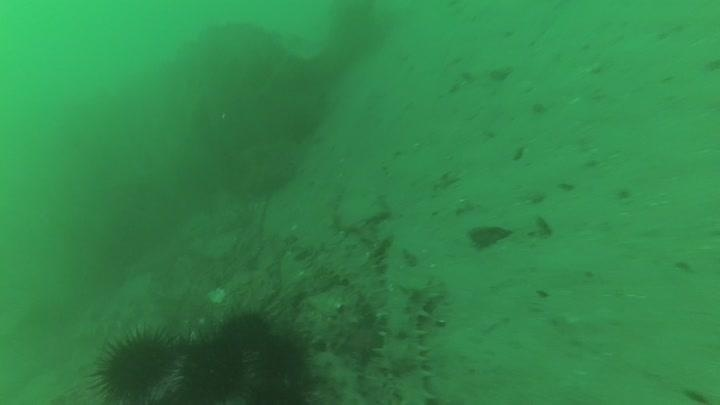echinus: (88, 324, 182, 403), (241, 327, 320, 404), (172, 332, 251, 404), (218, 307, 277, 356)
holothurian: (373, 276, 445, 405), (301, 282, 379, 349), (298, 339, 376, 405)
